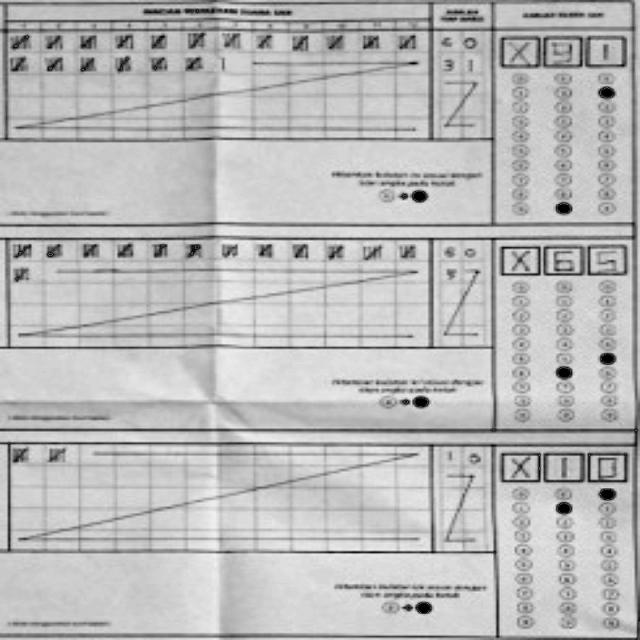Suara: (495, 31, 629, 71), (494, 239, 627, 279), (498, 448, 631, 488)
